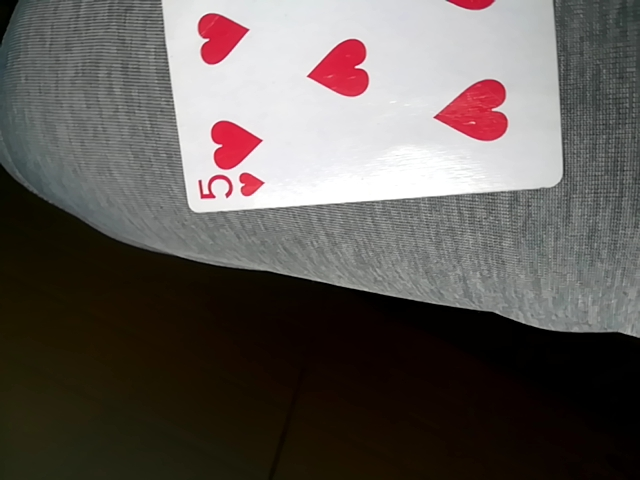hx 5: (162, 0, 566, 212)
